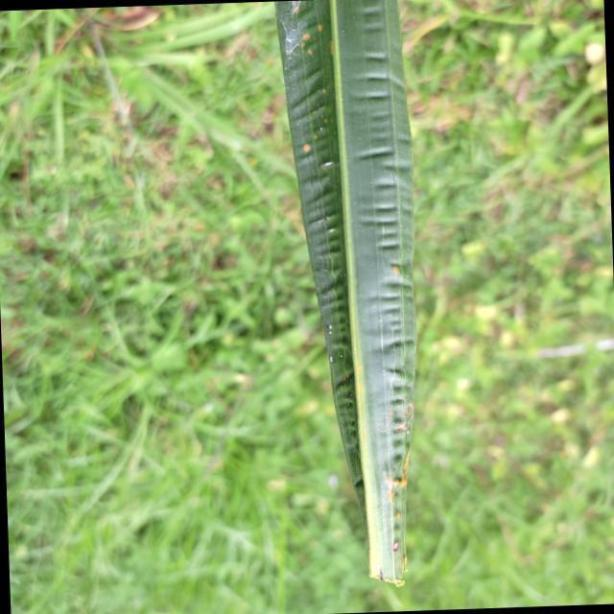Boron: (274, 3, 420, 592)
